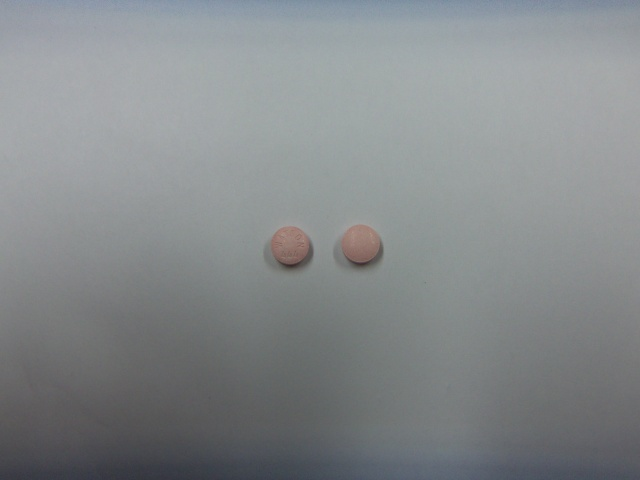N: (295, 241, 306, 249)
T: (284, 229, 291, 238)
